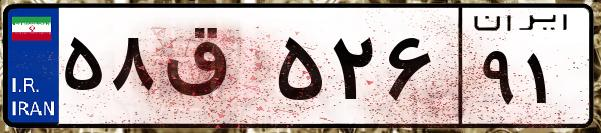1: (525, 38, 570, 115)
2: (330, 28, 385, 110)
5: (270, 28, 330, 110), (57, 26, 110, 100)
6: (385, 28, 445, 110)
8: (110, 28, 158, 98)
9: (475, 38, 525, 113)
ق: (158, 20, 270, 120)
